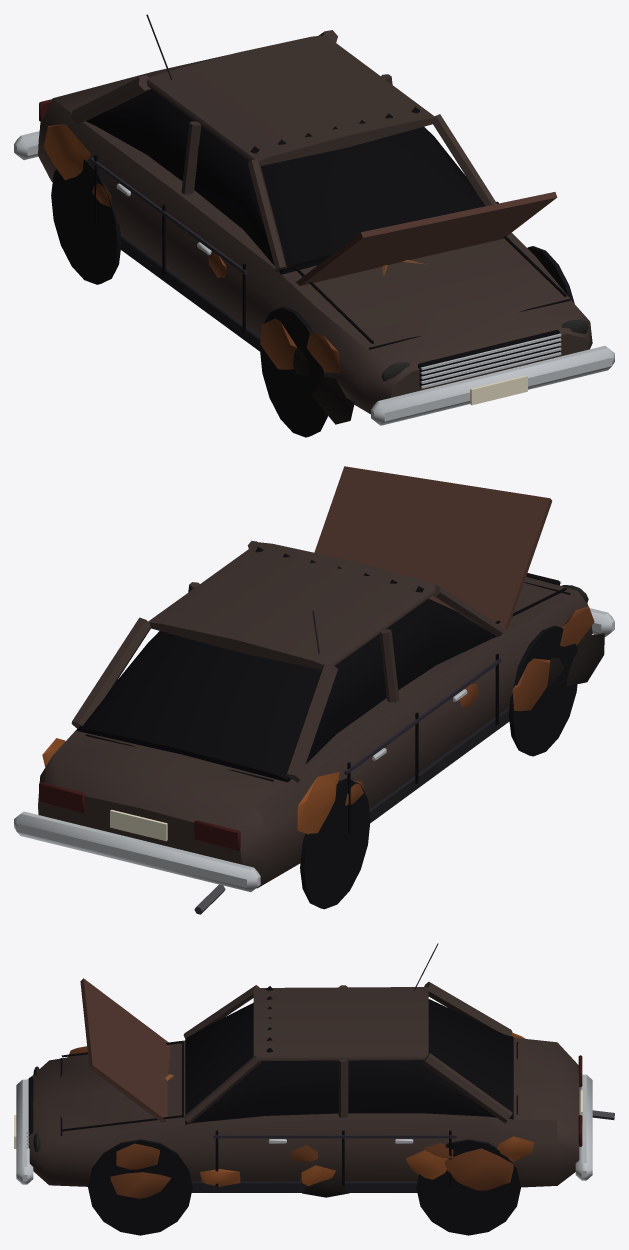
Rendered from car_wreck.glb.
The picture shows the model from 3 angles, top to bottom: view 1: azimuth 30°, elevation 25°; view 2: azimuth 150°, elevation 25°; view 3: azimuth 270°, elevation 25°; orthographic projection. The views are drawn at different scales.
Parts seen in each view (by area): view 1: car_wreck; view 2: car_wreck; view 3: car_wreck.
Boxes of the visible parts, left/top/right/bottom form: car_wreck: left=14, top=14, right=614, bottom=437; car_wreck: left=14, top=466, right=614, bottom=914; car_wreck: left=14, top=943, right=614, bottom=1235.
Bounding box in the file's own units: 1.95 × 1.92 × 4.94.
